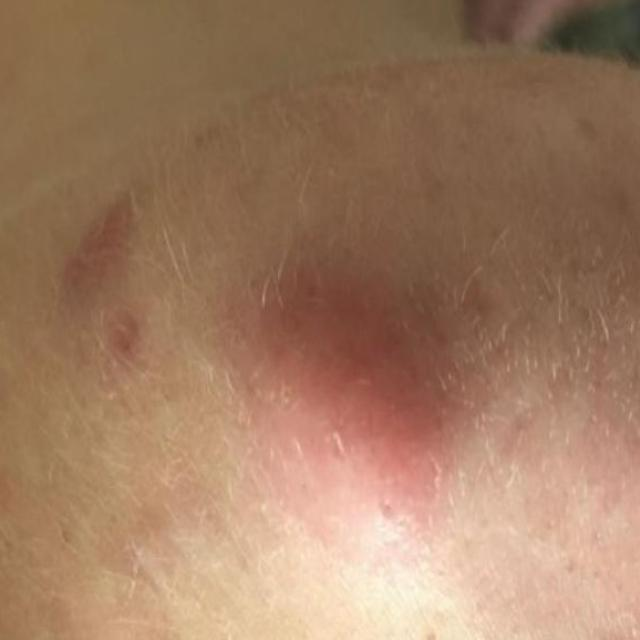nodule: (222, 281, 479, 581)
